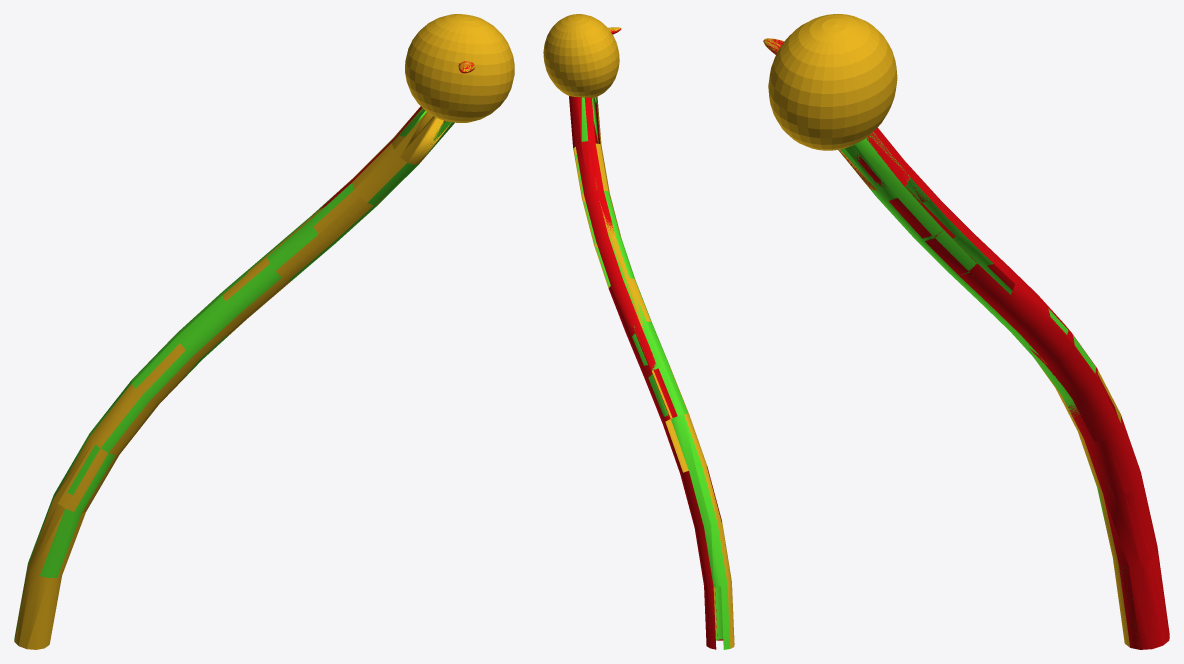
File: flower.fbx
3 views of the same model, side by side, from view 1: azimuth 30°, elevation 25°; view 2: azimuth 150°, elevation 25°; view 3: azimuth 270°, elevation 25° (orthographic). The views are drawn at different scales.
Visible parts, largest first — view 1: Sphere.001, BezierCurve.001; view 2: Sphere.001, Sphere, BezierCurve.001; view 3: Sphere, Sphere.001, BezierCurve.001.
Boxes of the visible parts, box(x1,y1,x2,y2) form: Sphere.001: box(14, 14, 514, 649); BezierCurve.001: box(14, 107, 454, 644); Sphere.001: box(543, 14, 734, 648); Sphere: box(569, 28, 723, 649); BezierCurve.001: box(569, 97, 730, 649); Sphere: box(763, 39, 1169, 649); Sphere.001: box(763, 14, 1130, 647); BezierCurve.001: box(838, 132, 1139, 644).
Bounding box in the file's own units: 114 × 192 × 87.47.
